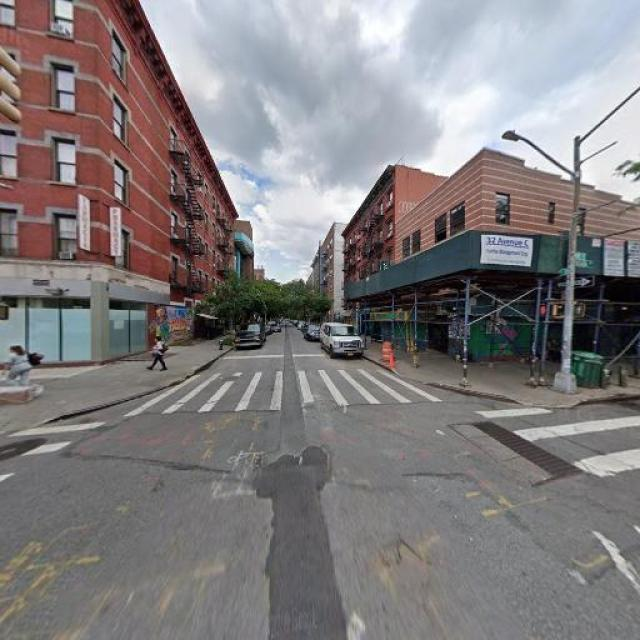Building: (1, 1, 234, 365), (395, 148, 628, 362)
